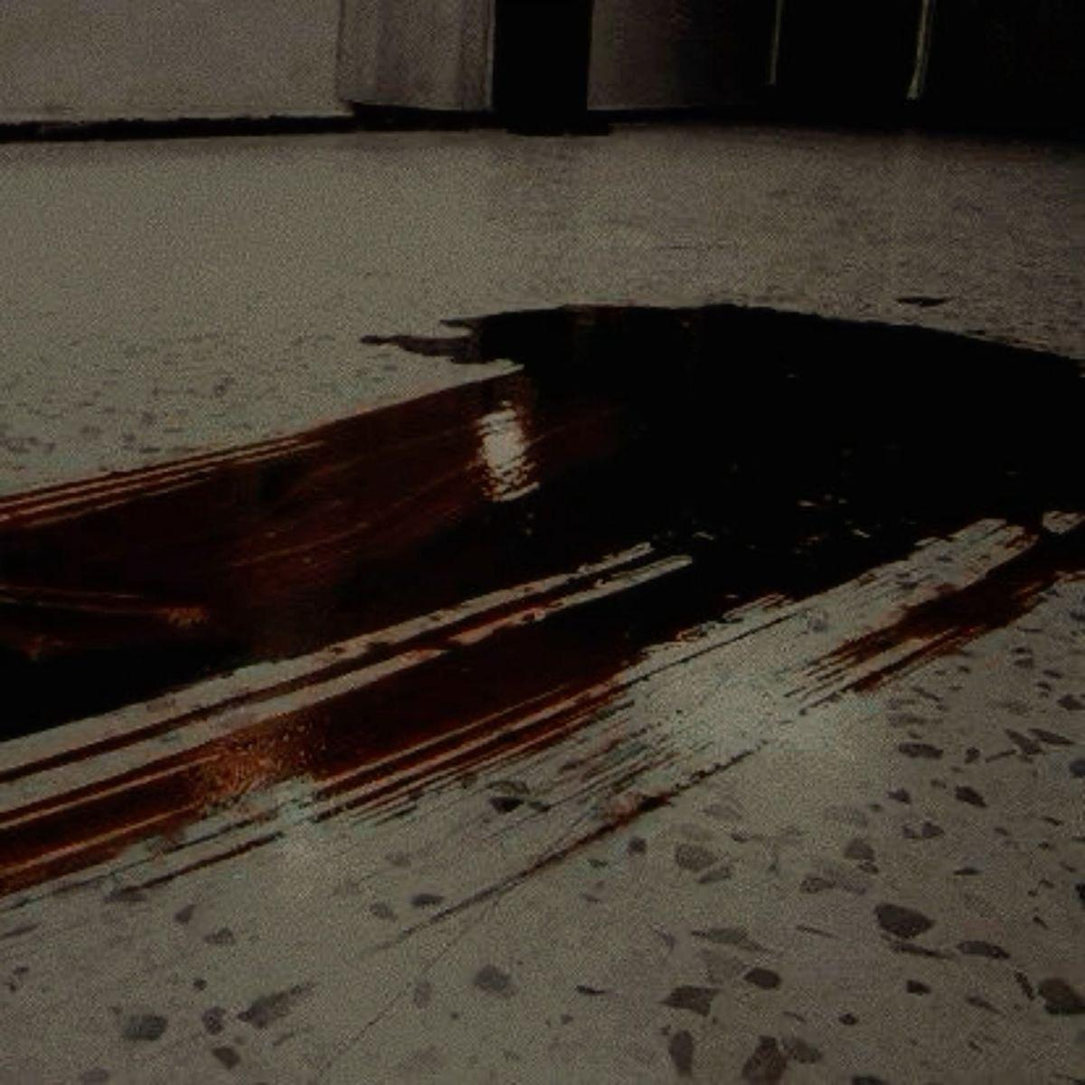blood_18.png: (4, 274, 1085, 948)
